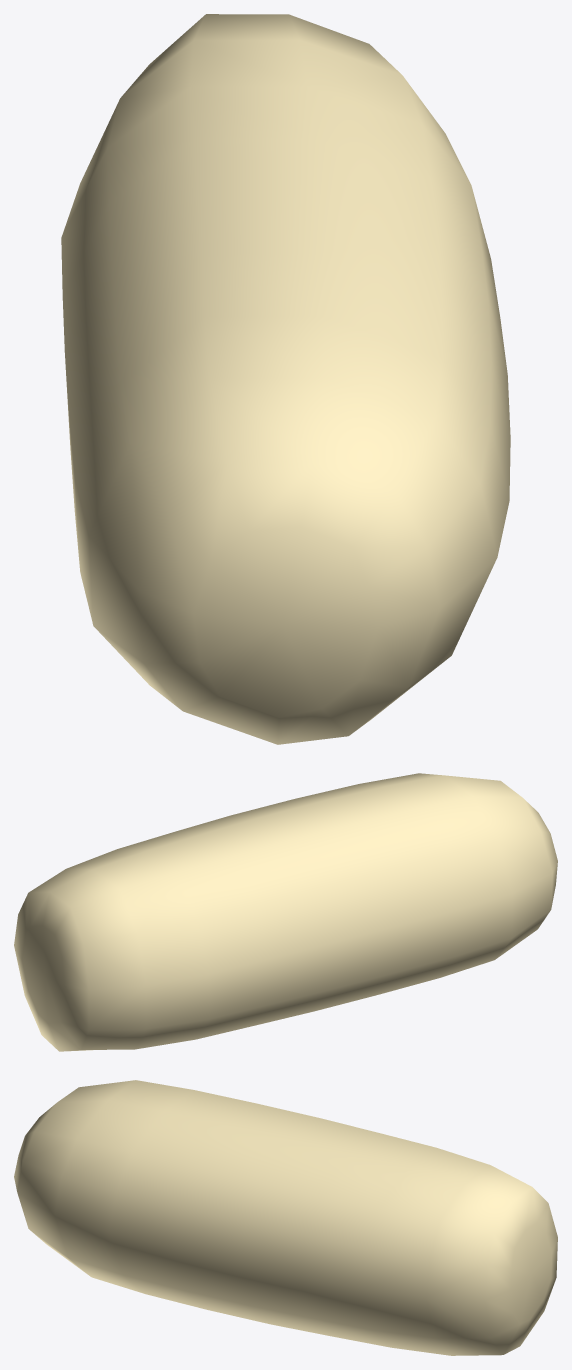
Rendered from candy_assets47.fbx.
The picture shows the model from 3 angles, top to bottom: view 1: azimuth 30°, elevation 25°; view 2: azimuth 150°, elevation 25°; view 3: azimuth 270°, elevation 25°; orthographic projection. The views are drawn at different scales.
Visible parts, largest first — view 1: candy_assets47; view 2: candy_assets47; view 3: candy_assets47.
Boxes of the visible parts, <box> form: candy_assets47: <box>61,14,510,744</box>; candy_assets47: <box>14,773,557,1051</box>; candy_assets47: <box>14,1080,557,1355</box>.
Size of the model in its own units: 375 by 196 by 531.
1 material, 1 textured.
